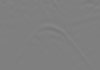hyperbola: (20, 21, 87, 63)
